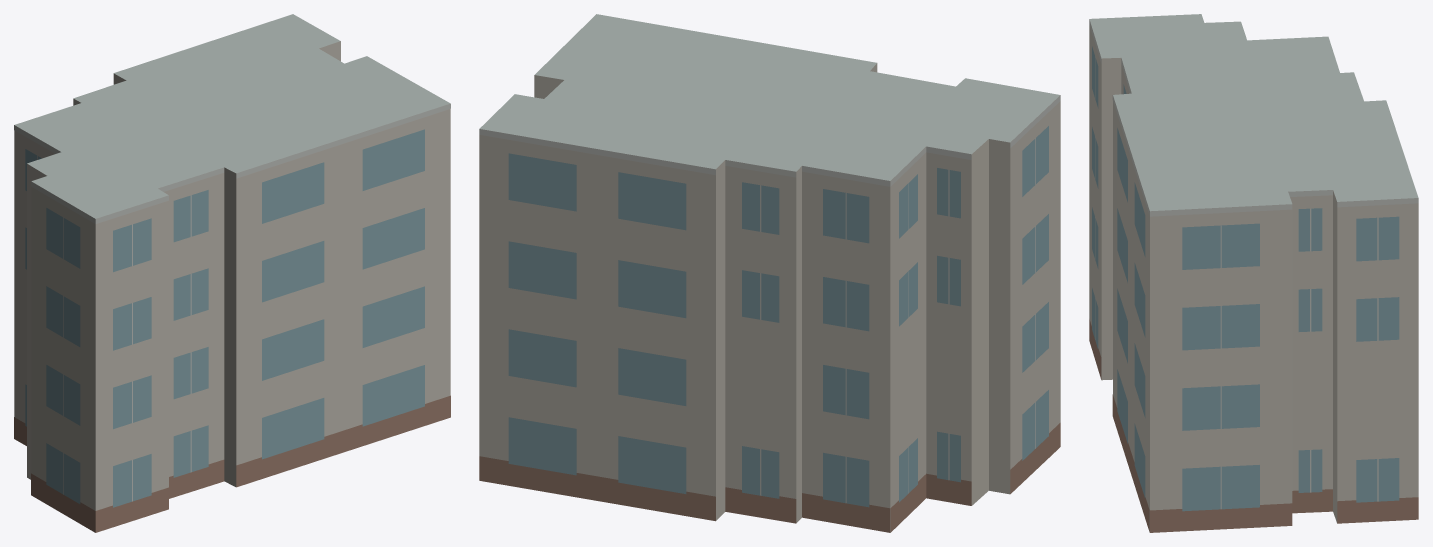
Rendered from survey-upis-32524149.glb.
The picture shows the model from 3 angles, left to right: view 1: azimuth 30°, elevation 25°; view 2: azimuth 150°, elevation 25°; view 3: azimuth 270°, elevation 25°; orthographic projection. The views are drawn at different scales.
Visible parts, largest first — view 1: survey-upis-32524149.tmp; view 2: survey-upis-32524149.tmp; view 3: survey-upis-32524149.tmp.
Boxes of the visible parts, box(x1,y1,x2,y2) form: survey-upis-32524149.tmp: box(14, 14, 450, 532); survey-upis-32524149.tmp: box(479, 14, 1060, 532); survey-upis-32524149.tmp: box(1089, 14, 1418, 532).
Size of the model in its own units: 19.07 by 14.5 by 13.46.
